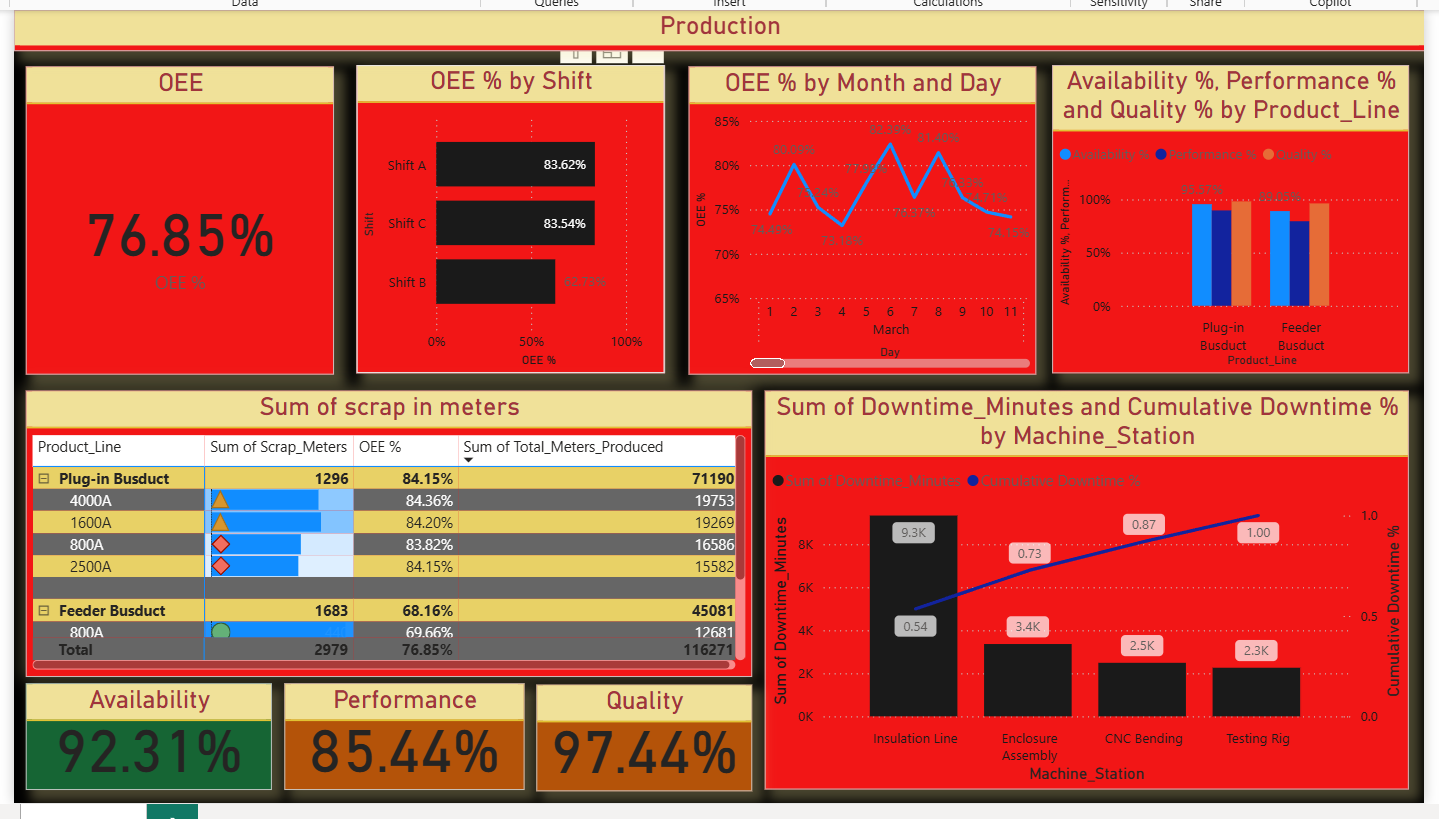

The dashboard page shown, as its layout file describes it:
{"tool":"powerbi","page":{"name":"OEE Sheet","canvas":[1280,720],"ordinal":0},"visuals":[{"type":"card","title":"OEE","fields":{"Values":["Downtime_Details.OEE %"]},"box":[10.7,51.2,279.9,279.9],"z":0},{"type":"clusteredBarChart","fields":{"Y":["Downtime_Details.OEE %"],"Category":["Downtime_Details.Shift"]},"box":[310.8,50,279.9,279.9],"z":1000},{"type":"textbox","title":"Production ","box":[0,0,1280.7,37.2],"z":2000},{"type":"lineClusteredColumnComboChart","fields":{"Y":["Sum(Downtime_Details.Downtime_Minutes)"],"Category":["Downtime_Details.Machine_Station"],"Y2":["Downtime_Details.Cumulative Downtime %"]},"box":[681.1,345.6,584.4,362.2],"z":3000},{"type":"lineChart","fields":{"Y":["Downtime_Details.OEE %"],"Category":["Production_Log.Date.Variation.Date Hierarchy.Month","Production_Log.Date.Variation.Date Hierarchy.Day"]},"box":[612.1,51.2,315.6,279.9],"z":4000},{"type":"clusteredColumnChart","fields":{"Category":["Production_Log.Product_Line"],"Y":["Downtime_Details.Availability %","Downtime_Details.Performance %","Downtime_Details.Quality %"]},"box":[942,50,323.9,279.9],"z":5000},{"type":"pivotTable","title":"Sum of scrap in meters","fields":{"Rows":["Production_Log.Product_Line","Production_Log.Amperage_Rating"],"Values":["Sum(Production_Log.Scrap_Meters)","Downtime_Details.OEE %","Sum(Production_Log.Total_Meters_Produced)"]},"box":[11.1,345.6,658.9,260],"z":6000},{"type":"card","title":"Availability ","fields":{"Values":["Downtime_Details.Availability %"]},"box":[11.1,611.1,223.3,96.7],"z":7000},{"type":"card","title":"Performance ","fields":{"Values":["Downtime_Details.Performance %"]},"box":[245.6,611.1,217.8,96.7],"z":8000},{"type":"card","title":"Quality ","fields":{"Values":["Downtime_Details.Quality %","select"]},"box":[474.4,612.2,195.6,96.7],"z":9000}]}

Visuals, with their boxes in screenshot pixels (x1, y1, x2, y2):
"OEE" card: pyautogui.locateOnScreen(16, 64, 326, 375)
clusteredBarChart - Downtime_Details.OEE % x Downtime_Details.Shift: pyautogui.locateOnScreen(348, 63, 659, 373)
"Production " textbox: pyautogui.locateOnScreen(4, 7, 1424, 49)
lineClusteredColumnComboChart - Sum(Downtime_Details.Downtime_Minutes) x Downtime_Details.Machine_Station: pyautogui.locateOnScreen(759, 391, 1407, 792)
lineChart - Downtime_Details.OEE % x Production_Log.Date.Variation.Date Hierarchy.Month: pyautogui.locateOnScreen(682, 64, 1032, 375)
clusteredColumnChart - Production_Log.Product_Line x Downtime_Details.Availability %: pyautogui.locateOnScreen(1048, 63, 1407, 373)
"Sum of scrap in meters" pivotTable: pyautogui.locateOnScreen(16, 391, 747, 679)
"Availability " card: pyautogui.locateOnScreen(16, 685, 264, 792)
"Performance " card: pyautogui.locateOnScreen(276, 685, 518, 792)
"Quality " card: pyautogui.locateOnScreen(530, 686, 747, 793)
